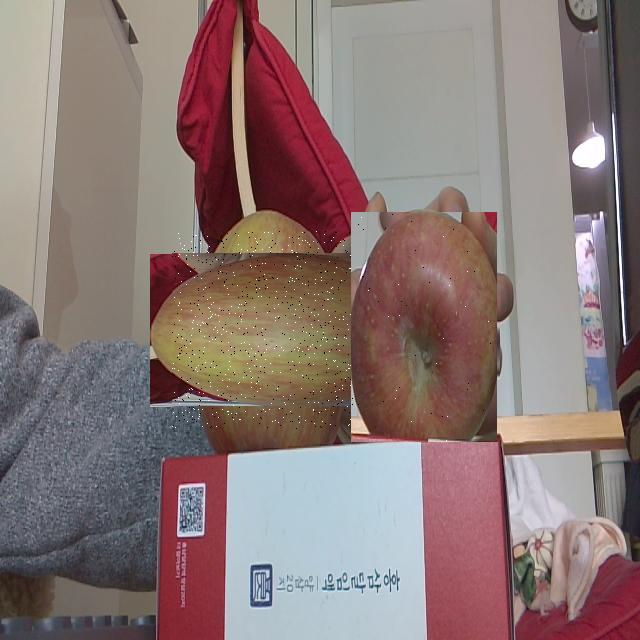apple: (172, 232, 370, 429), (352, 212, 499, 442)
